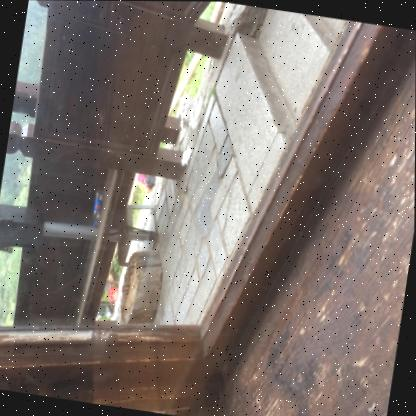Paper: (180, 146, 191, 165)
Plastic: (92, 190, 102, 225)
